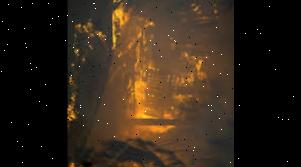fire: (111, 0, 216, 132), (67, 15, 104, 128)
